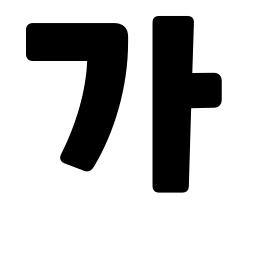Gaji: (144, 62, 210, 124)
